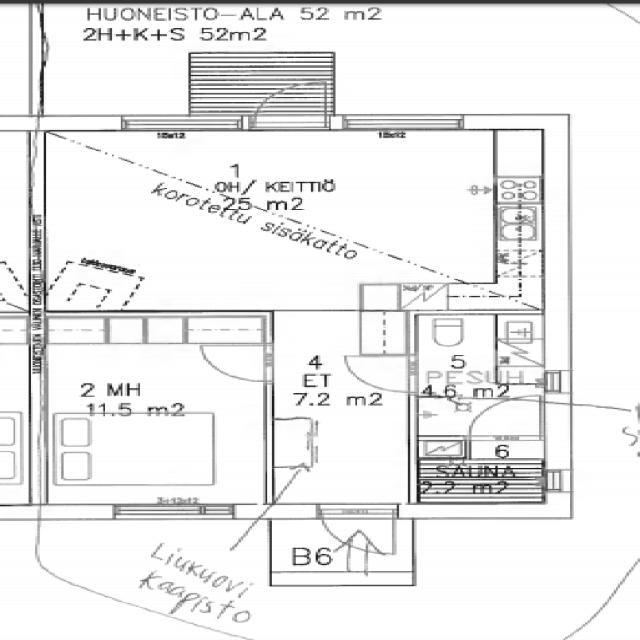door: (192, 340, 276, 386), (466, 398, 545, 442), (249, 77, 331, 119), (344, 354, 410, 394)
window: (335, 110, 471, 138), (109, 501, 231, 524), (114, 115, 245, 135)
zone: (12, 128, 462, 300), (43, 326, 276, 515), (413, 434, 551, 509), (410, 311, 527, 384)
